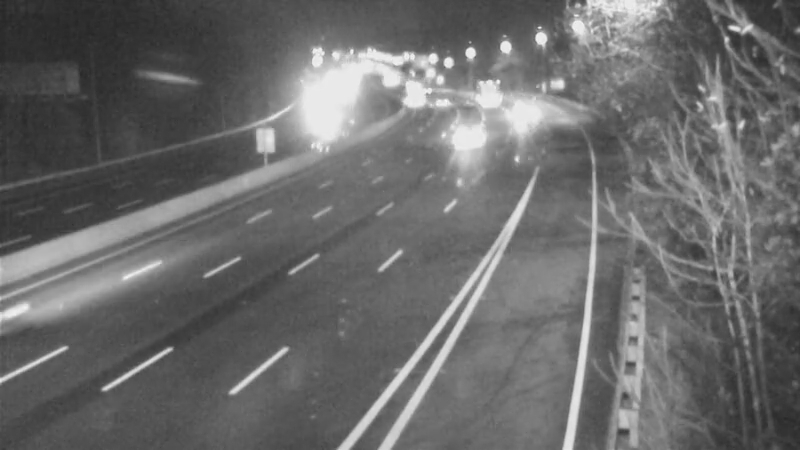vehicle: (1, 259, 87, 369), (466, 69, 516, 119), (417, 78, 467, 128), (387, 75, 437, 125), (499, 88, 549, 138), (453, 103, 503, 153), (289, 102, 339, 152)
